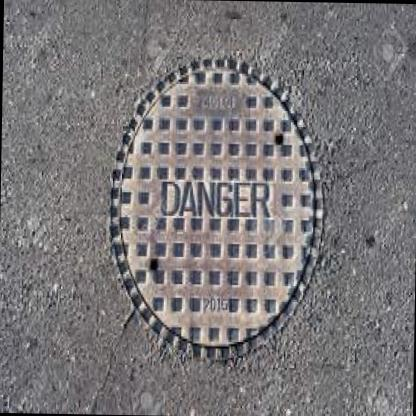manholes: (84, 12, 348, 384)
